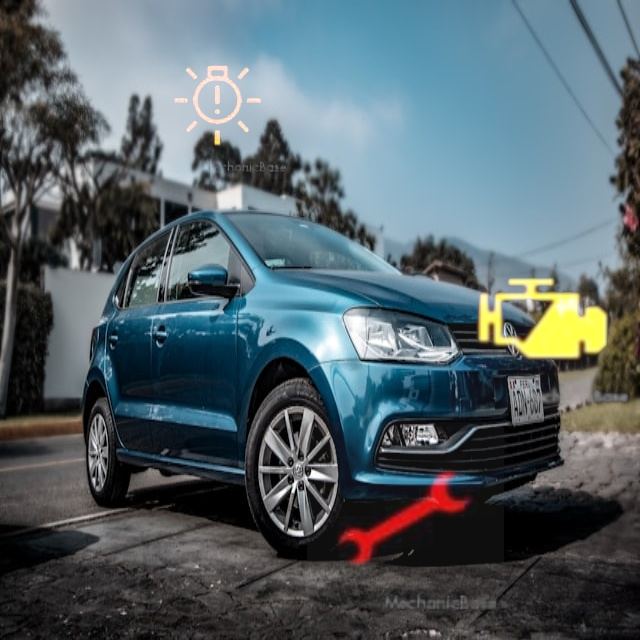symbol: (307, 422, 504, 619), (449, 226, 635, 412), (146, 33, 292, 179)
